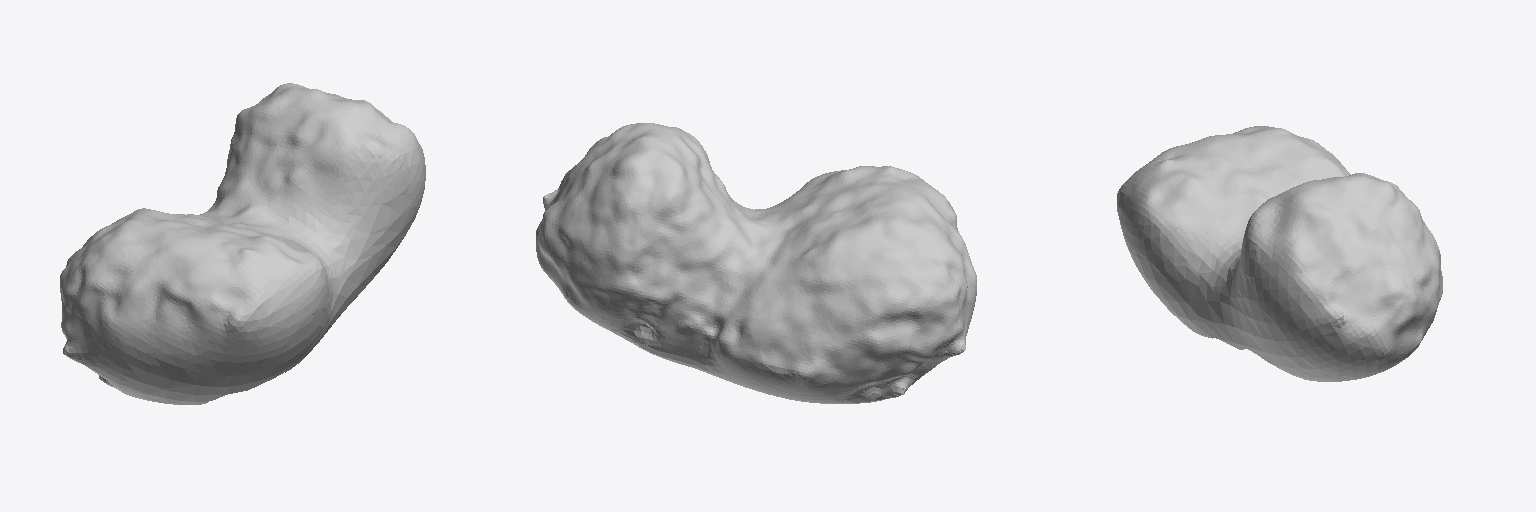
File: SIde1.obj
3 views of the same model, side by side, from view 1: azimuth 30°, elevation 25°; view 2: azimuth 150°, elevation 25°; view 3: azimuth 270°, elevation 25° (orthographic).
Bounding box in the file's own units: 0.1193 × 0.07 × 0.0864.